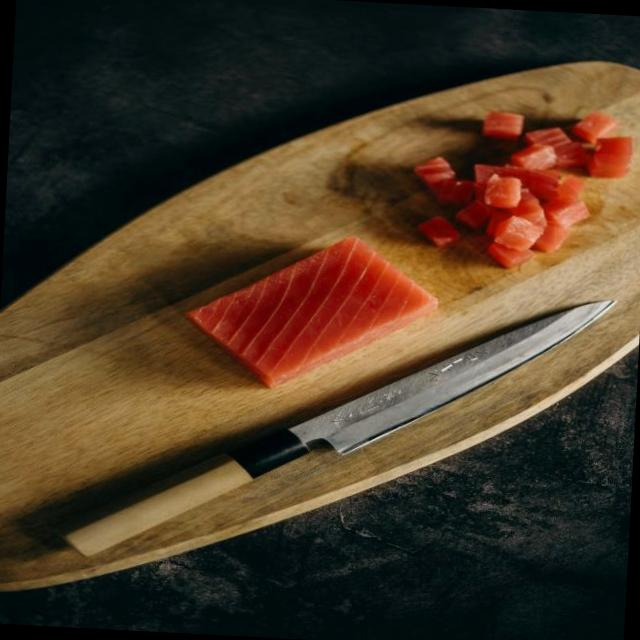Knife: (63, 300, 614, 556)
